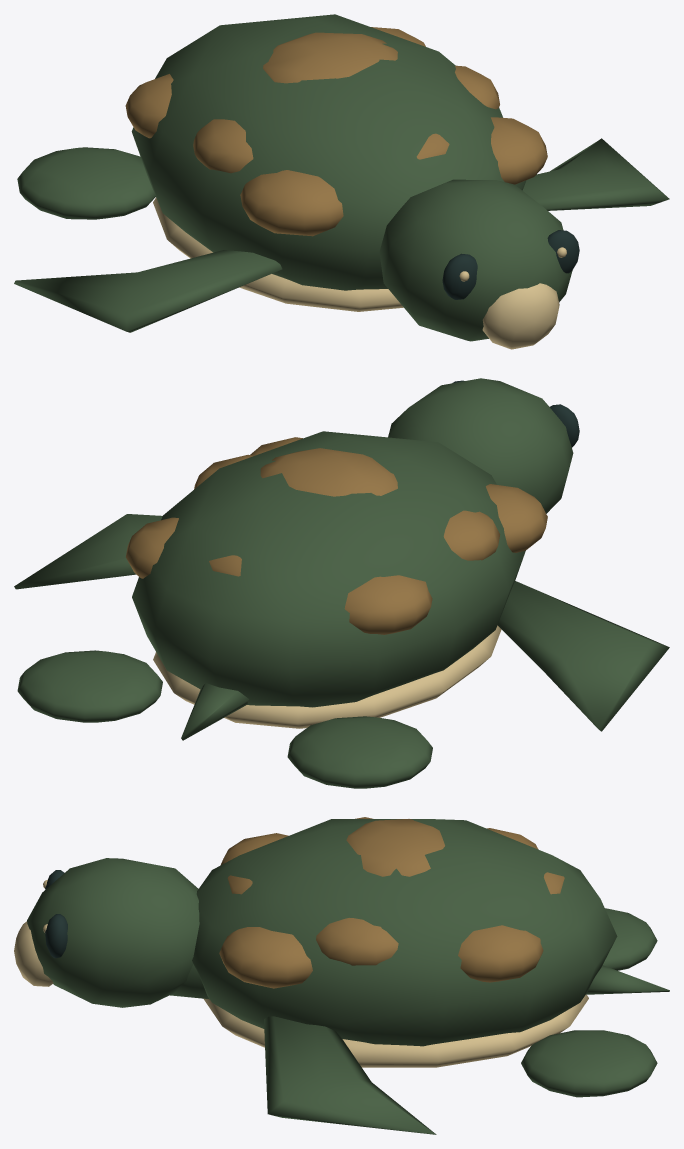
The model's file is org_seaturtle.glb.
The picture shows the model from 3 angles, top to bottom: view 1: azimuth 30°, elevation 25°; view 2: azimuth 150°, elevation 25°; view 3: azimuth 270°, elevation 25°; orthographic projection. The views are drawn at different scales.
Visible parts, largest first — view 1: Body, Head, Fin_R, Leg_BR, Fin_L, Eye_R, Eye_L; view 2: Body, Head, Fin_R, Leg_BL, Leg_BR, Fin_L, Tail; view 3: Body, Head, Fin_L, Leg_BL, Leg_BR, Tail, Eye_L.
Part boxes in pixels (x1,y1,x2,y2): Body: (125,14,547,311); Head: (379,179,572,349); Fin_R: (14,250,282,332); Leg_BR: (17,147,155,219); Fin_L: (522,138,669,210); Eye_R: (442,253,477,299); Eye_L: (547,230,579,273); Body: (126,431,547,728); Head: (388,378,573,513); Fin_R: (497,581,669,731); Leg_BL: (17,650,162,722); Leg_BR: (287,716,432,788); Fin_L: (14,514,162,589); Tail: (181,683,248,740); Body: (192,817,617,1067); Head: (14,858,209,1007); Fin_L: (264,1016,436,1134); Leg_BL: (521,1030,657,1097); Leg_BR: (603,908,657,970); Tail: (586,965,669,994); Eye_L: (43,914,67,958).
Bounding box in the file's own units: 0.5776 × 0.2024 × 0.6011.
